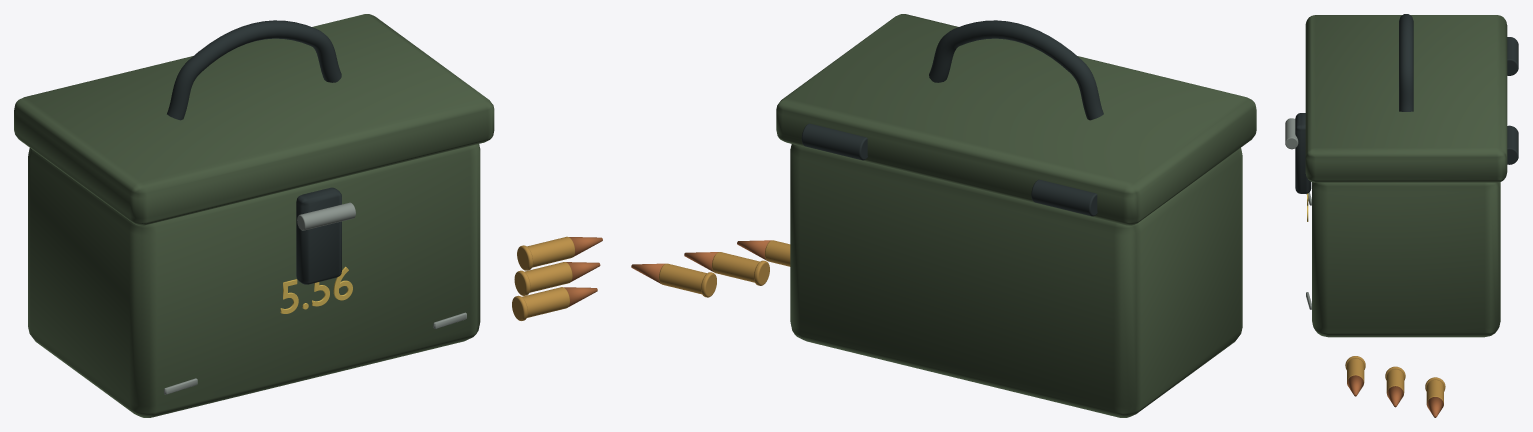
Rendered from ammo_pickup.glb.
3 views of the same model, side by side, from view 1: azimuth 30°, elevation 25°; view 2: azimuth 150°, elevation 25°; view 3: azimuth 270°, elevation 25° (orthographic). The views are drawn at different scales.
Visible parts, largest first — view 1: AmmoCanBody, AmmoCanLid, AmmoCarryHandle, AmmoCanFrontLatch, AmmoCaliberMark, AmmoLatchPin, AmmoLooseRoundCase.001, AmmoLooseRoundCase, AmmoLooseRoundCase.002; view 2: AmmoCanBody, AmmoCanLid, AmmoCarryHandle, AmmoLidHinge, AmmoLidHinge.001, AmmoLooseRoundCase.002, AmmoLooseRoundCase.001, AmmoLooseRoundCase; view 3: AmmoCanLid, AmmoCanBody, AmmoCarryHandle, AmmoCanFrontLatch, AmmoLidHinge.001, AmmoLidHinge, AmmoLatchPin, AmmoLooseRoundCase.001, AmmoLooseRoundCase, AmmoLooseRoundCase.002, AmmoLooseRoundBullet, AmmoLooseRoundBullet.001 (+1 smaller).
Part boxes in pixels (left/top/right/bottom): AmmoCanBody: left=28, top=144, right=480, bottom=417; AmmoCanLid: left=14, top=14, right=494, bottom=225; AmmoCarryHandle: left=167, top=20, right=341, bottom=120; AmmoCanFrontLatch: left=296, top=187, right=341, bottom=284; AmmoCaliberMark: left=280, top=266, right=352, bottom=313; AmmoLatchPin: left=297, top=202, right=355, bottom=230; AmmoLooseRoundCase.001: left=524, top=262, right=572, bottom=292; AmmoLooseRoundCase: left=522, top=287, right=569, bottom=317; AmmoLooseRoundCase.002: left=527, top=236, right=574, bottom=267; AmmoCanBody: left=790, top=144, right=1242, bottom=417; AmmoCanLid: left=776, top=14, right=1256, bottom=225; AmmoCarryHandle: left=929, top=20, right=1103, bottom=120; AmmoLidHinge: left=1031, top=179, right=1097, bottom=216; AmmoLidHinge.001: left=801, top=123, right=867, bottom=160; AmmoLooseRoundCase.002: left=659, top=263, right=706, bottom=294; AmmoLooseRoundCase.001: left=712, top=252, right=759, bottom=282; AmmoLooseRoundCase: left=764, top=240, right=790, bottom=266; AmmoCanLid: left=1305, top=15, right=1507, bottom=182; AmmoCanBody: left=1312, top=182, right=1500, bottom=337; AmmoCarryHandle: left=1399, top=14, right=1413, bottom=111; AmmoCanFrontLatch: left=1295, top=113, right=1311, bottom=193; AmmoLidHinge.001: left=1507, top=125, right=1518, bottom=164; AmmoLidHinge: left=1507, top=37, right=1518, bottom=75; AmmoLatchPin: left=1285, top=118, right=1298, bottom=149; AmmoLooseRoundCase.001: left=1386, top=369, right=1404, bottom=396; AmmoLooseRoundCase: left=1347, top=358, right=1364, bottom=385; AmmoLooseRoundCase.002: left=1426, top=380, right=1443, bottom=406; AmmoLooseRoundBullet: left=1347, top=375, right=1363, bottom=396; AmmoLooseRoundBullet.001: left=1387, top=386, right=1403, bottom=407.
Bounding box in the file's own units: 0.691 × 0.3973 × 0.322.
